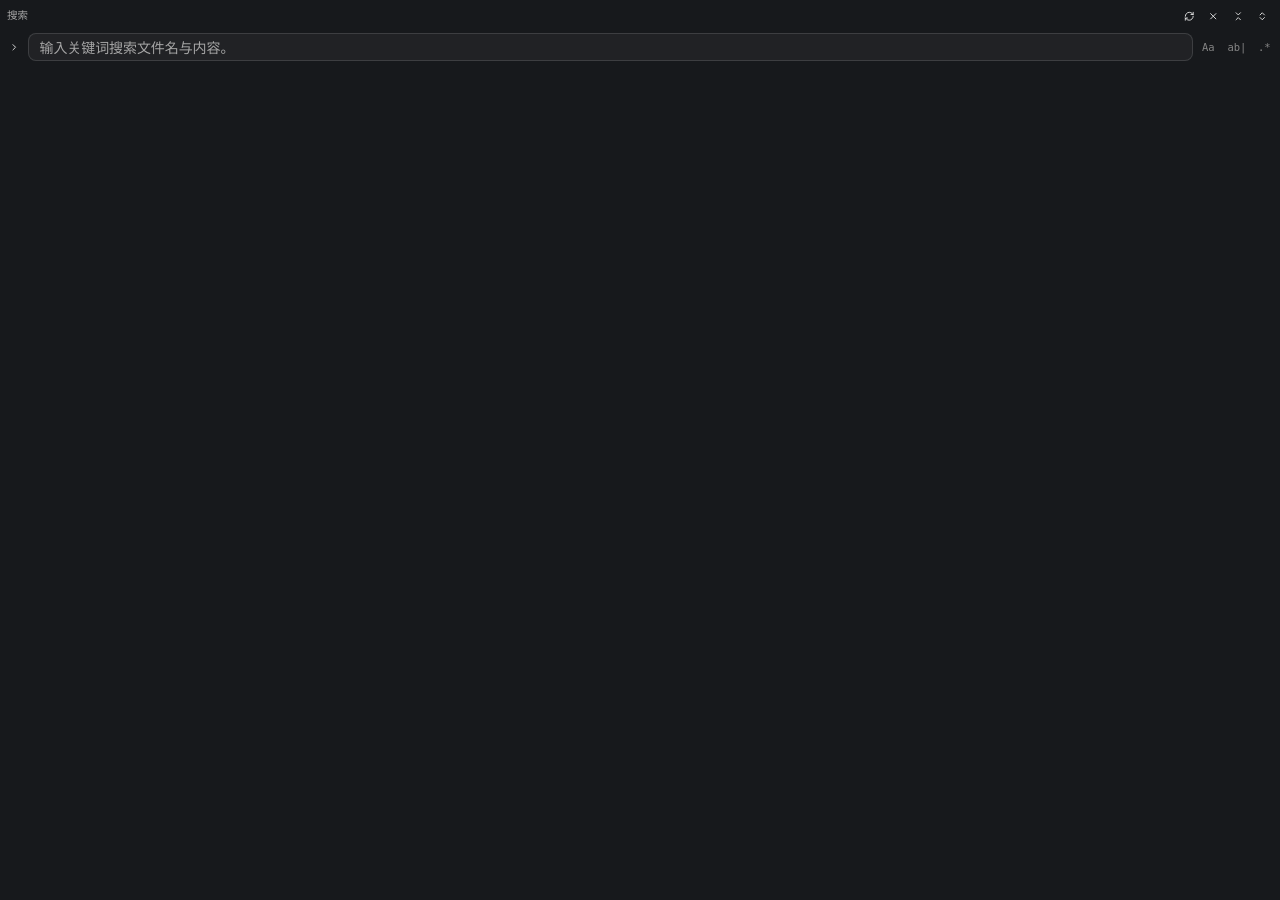
replace-all flow › shows the truncation warning when the preview hit the cap
Click the button named "展开替换": point(14, 47) [4,37,24,58]
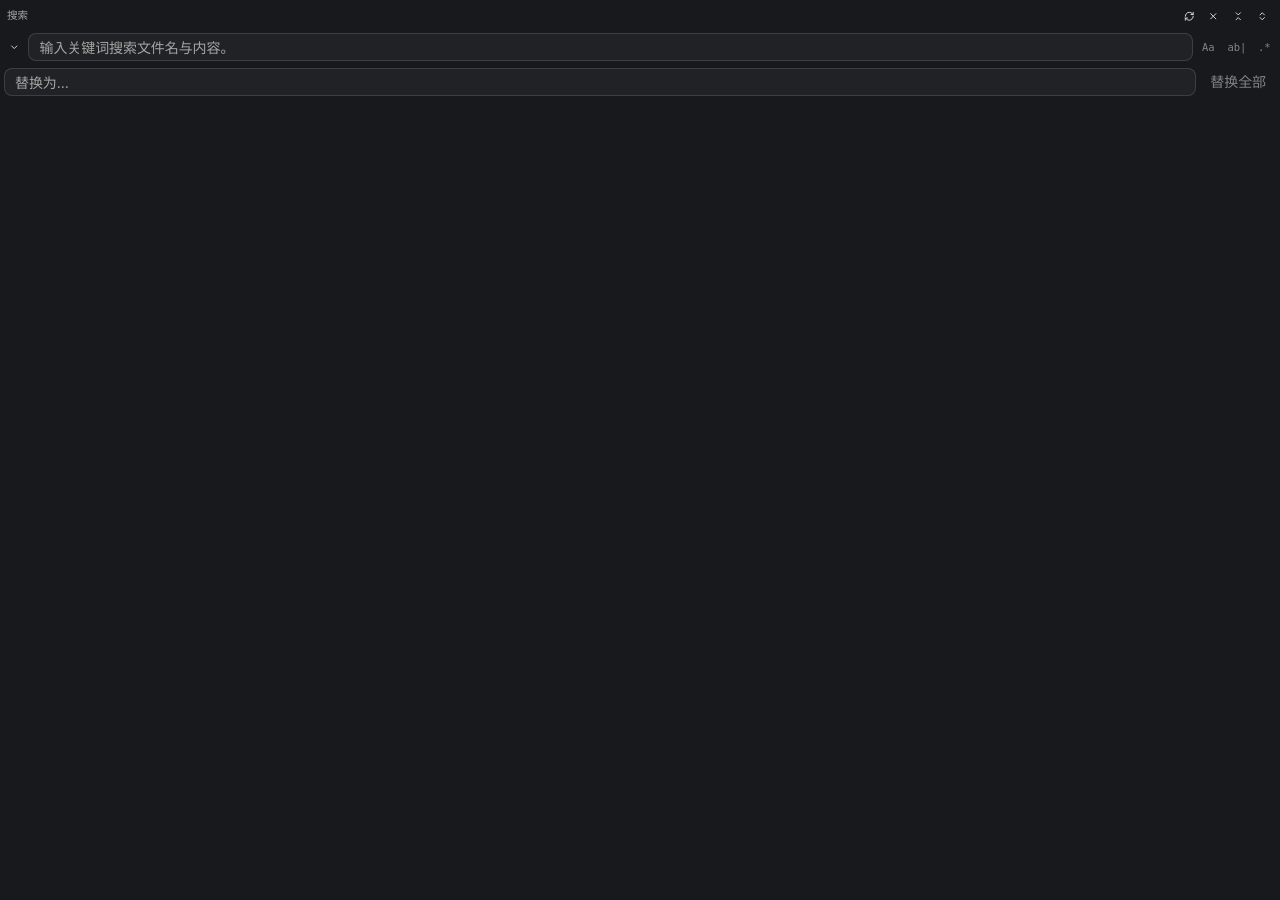
In the field labelled "搜索": point(610, 47) [28,33,1192,61], type "foo"
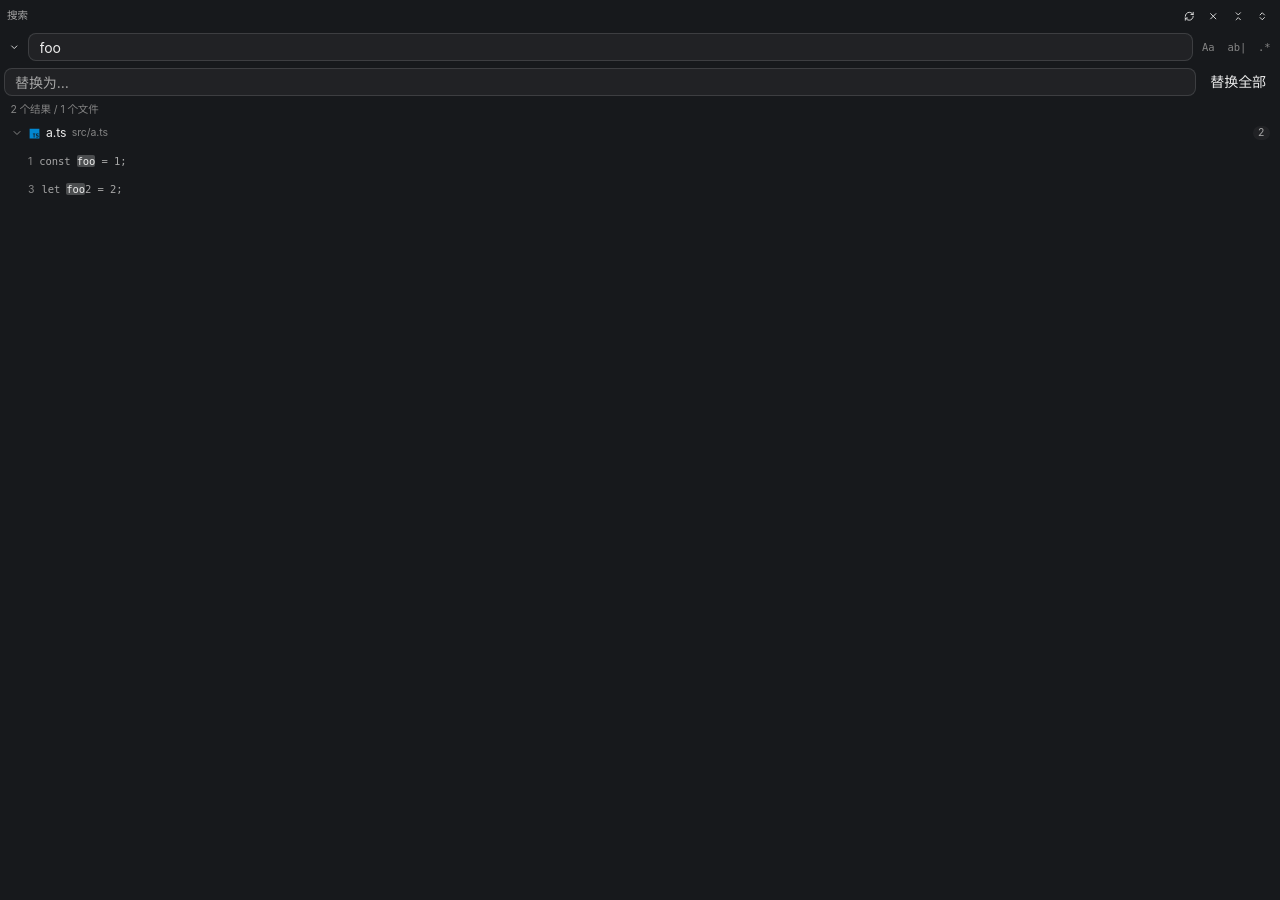
In the field labelled "替换": point(600, 82) [4,68,1196,96], type "bar"
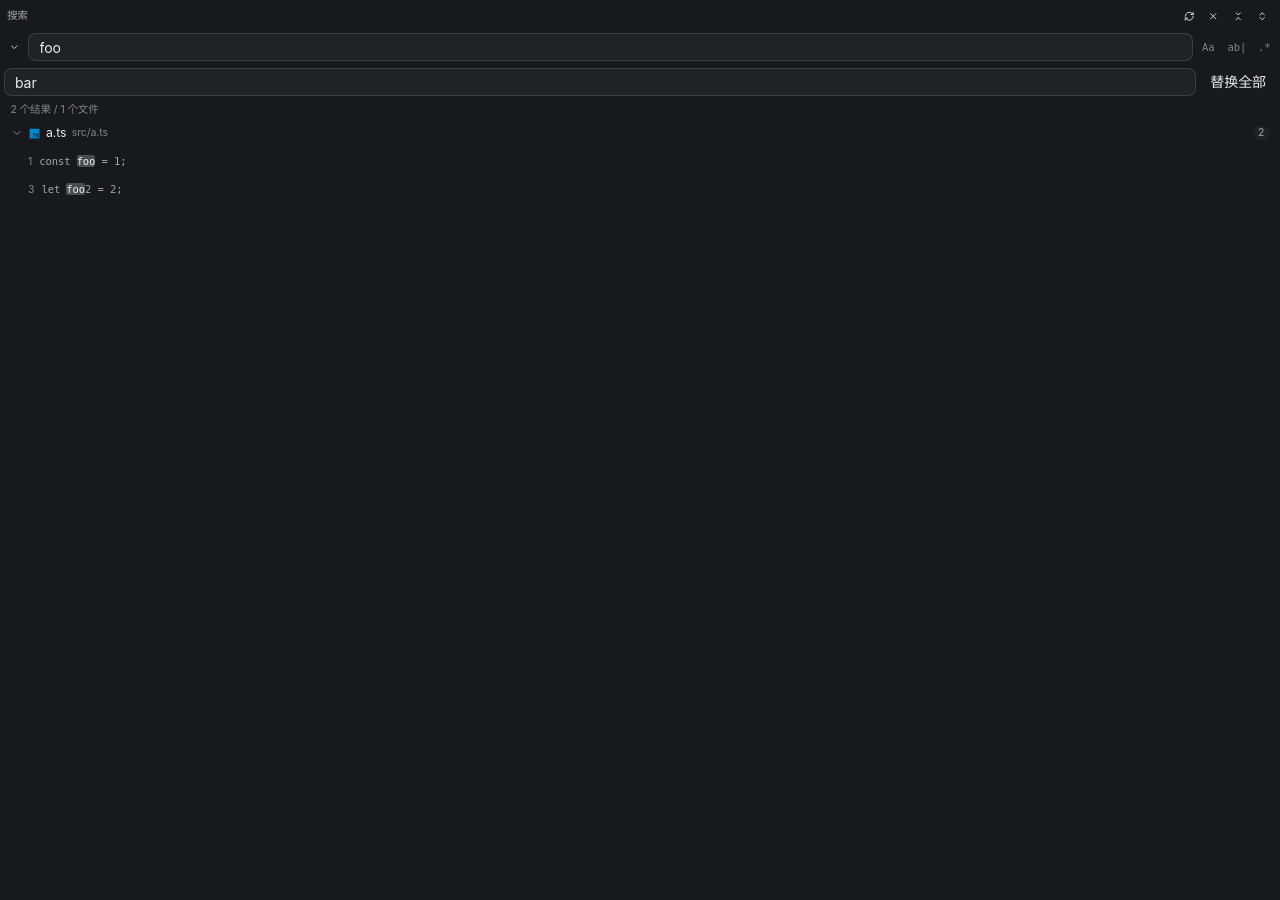
Click the button "替换全部": point(1238, 82) [1200,68,1276,96]
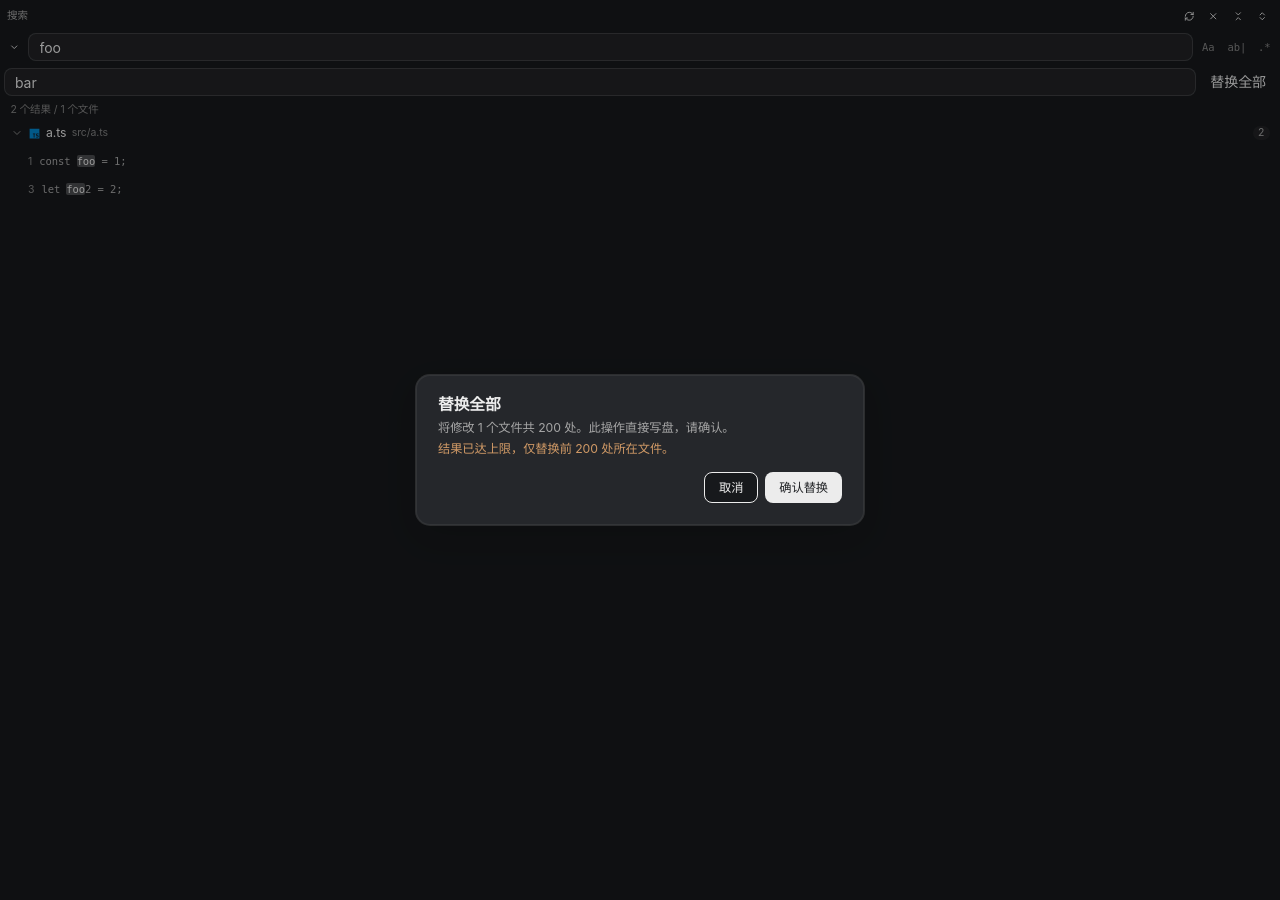
Expected: the text "结果已达上限，仅替换前 200 处所在文件。" is shown, [438,441,674,456]
